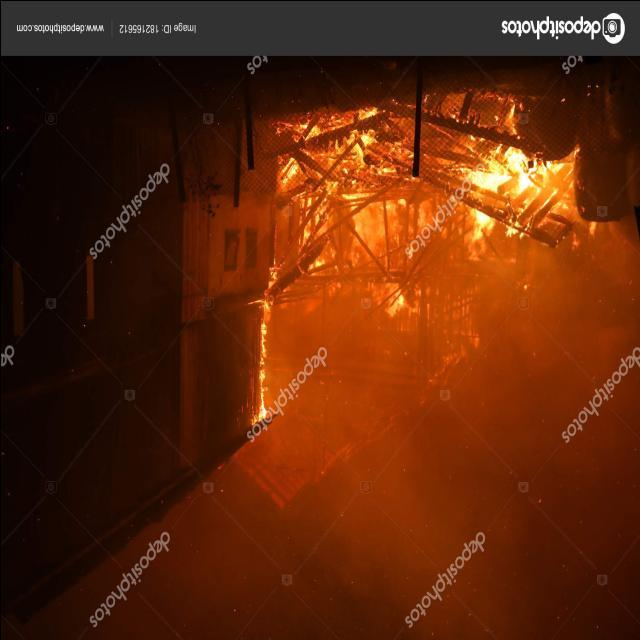Fire: (268, 102, 572, 373)
